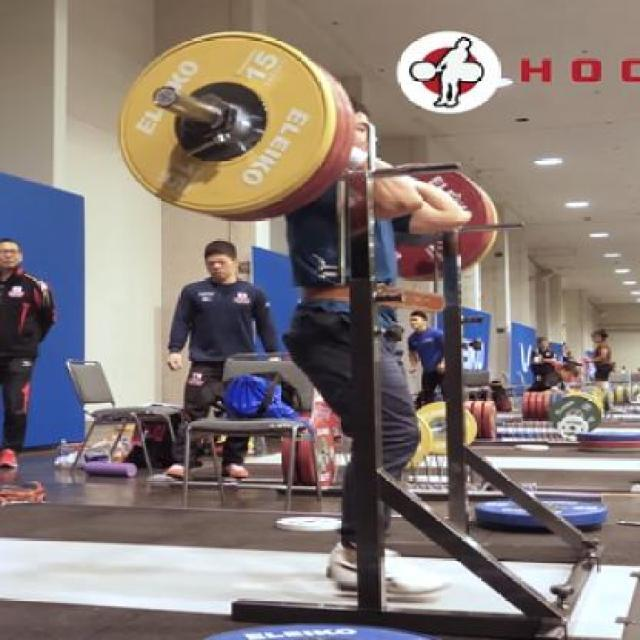Barbell: (148, 85, 186, 109)
